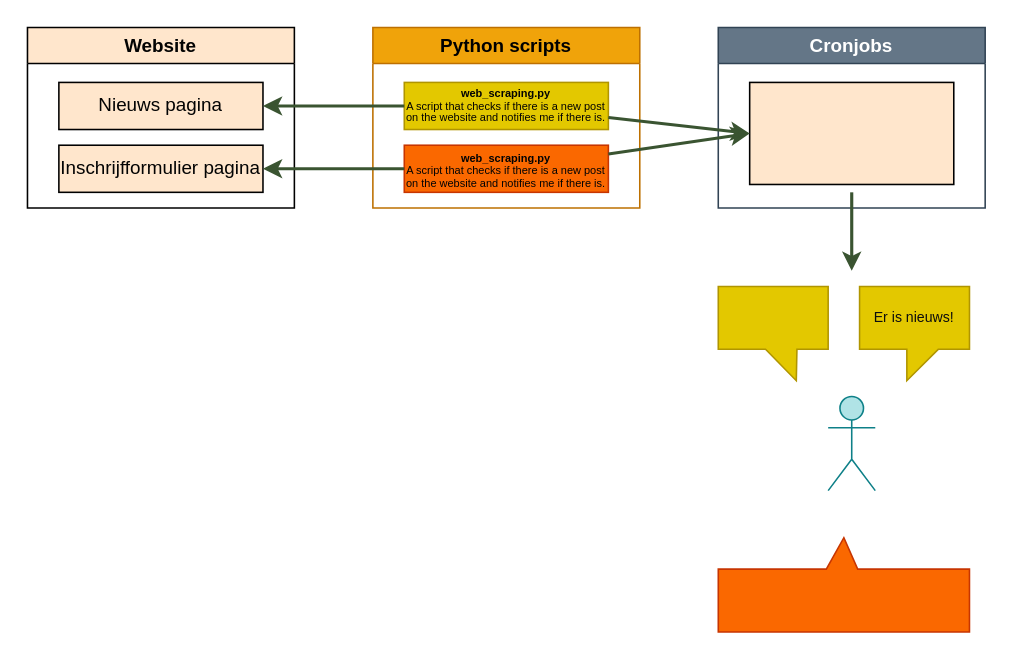
The diagram is 1013 pixels wide and 659 high, and some of its shapes have lost their labels. The shapes that lost their labels are listed below. From the top down, each one's box as (x1, y1, x2, y2) in pixels, then its label:
(748, 81, 954, 184): every minute on raspberri py both scripts are ran
(717, 285, 828, 381): Helaas nog geen nieuws
(827, 395, 875, 491): Me
(717, 536, 969, 632): De nieuwe fase met nieuwe huizen staat online en je bent ingeschreven!
